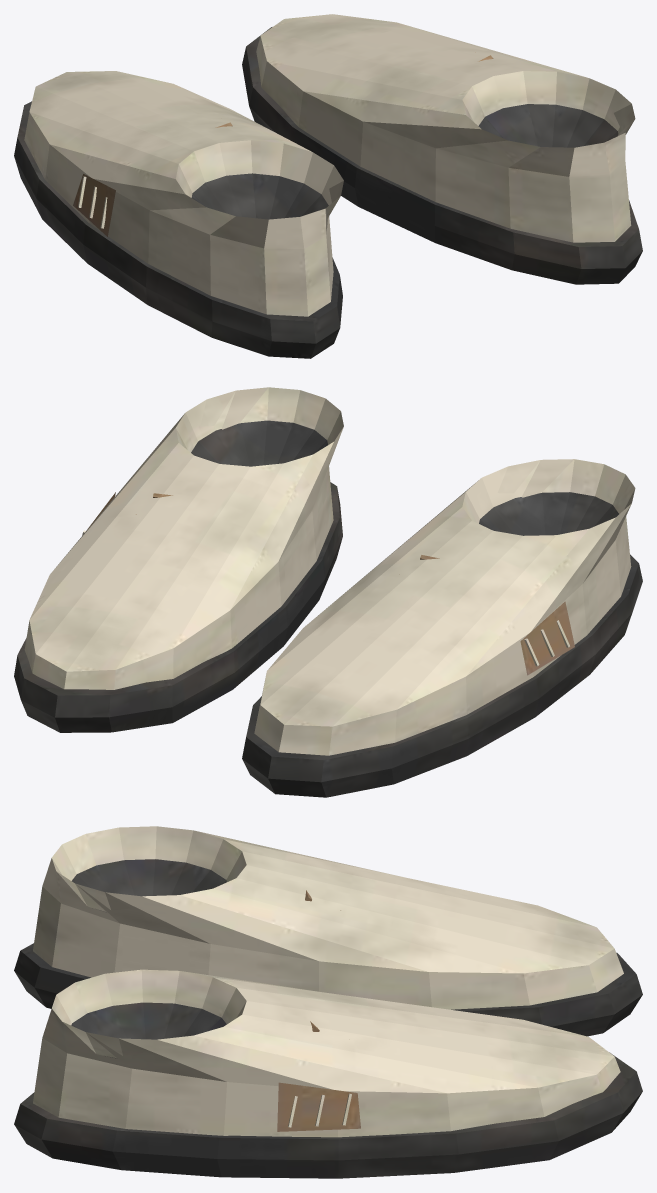
The model's file is D10_old_shoes_pair_v3.glb.
3 views of the same model, one above another, from view 1: azimuth 30°, elevation 25°; view 2: azimuth 150°, elevation 25°; view 3: azimuth 270°, elevation 25° (orthographic).
Visible parts, largest first — view 1: Cracked layered sole; view 2: Cracked layered sole; view 3: Cracked layered sole.
Part boxes in pixels (box(x1,y1,x2,y2)): Cracked layered sole: box(14, 14, 642, 358); Cracked layered sole: box(14, 387, 642, 797); Cracked layered sole: box(14, 826, 642, 1178).
Size of the model in its own units: 0.2626 by 0.0709 by 0.3.
5 materials, 5 textured.
